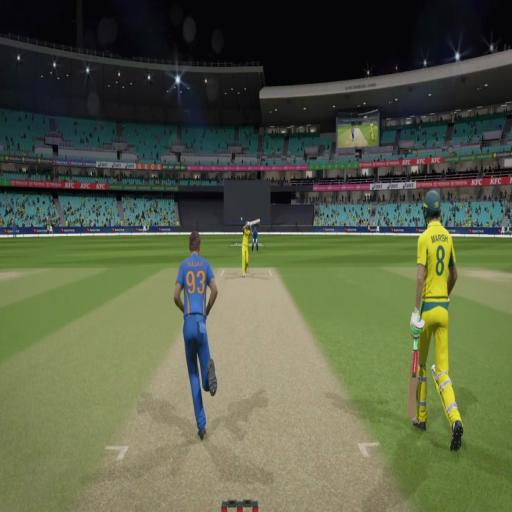ball: (240, 216, 242, 220)
